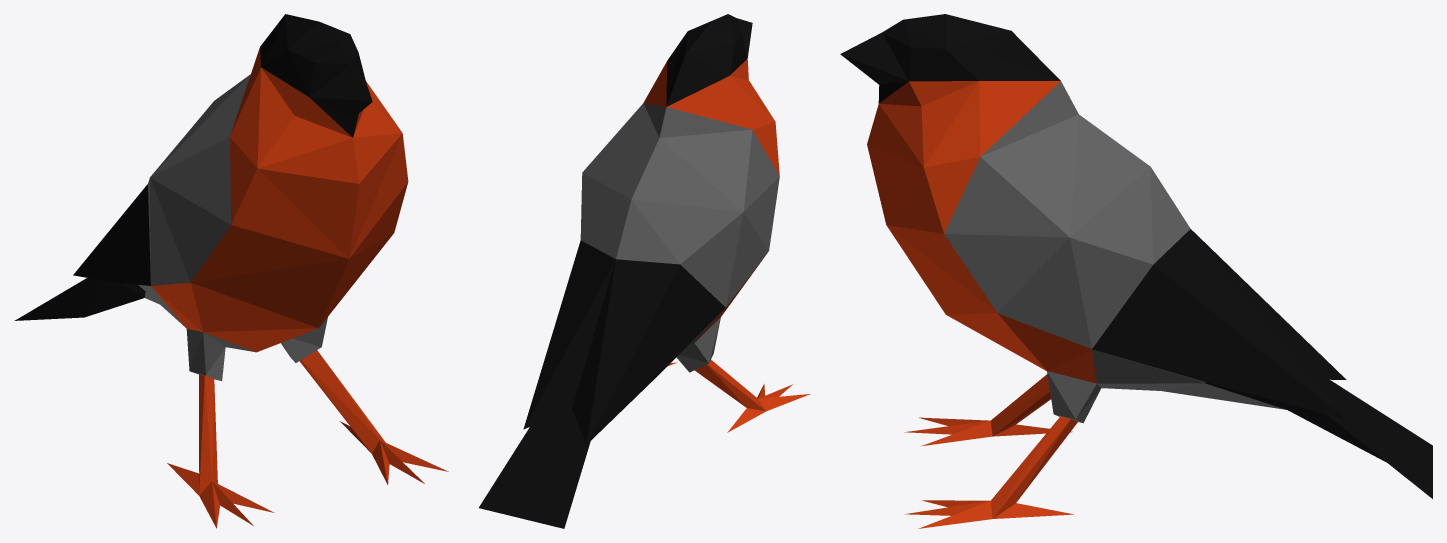
File: bullfinch.obj
The picture shows the model from 3 angles, left to right: view 1: azimuth 30°, elevation 25°; view 2: azimuth 150°, elevation 25°; view 3: azimuth 270°, elevation 25°; orthographic projection. The views are drawn at different scales.
Visible parts, largest first — view 1: Plane; view 2: Plane; view 3: Plane.
Boxes of the visible parts, <box> form: Plane: <box>14,14,448,528</box>; Plane: <box>479,14,810,528</box>; Plane: <box>840,14,1432,528</box>.
Bounding box in the file's own units: 1.58 × 3.04 × 3.55.
